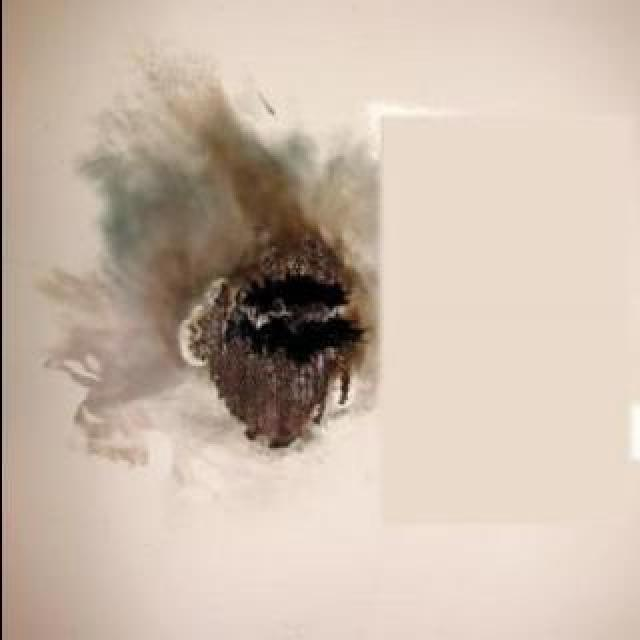crack: (187, 231, 369, 447)
